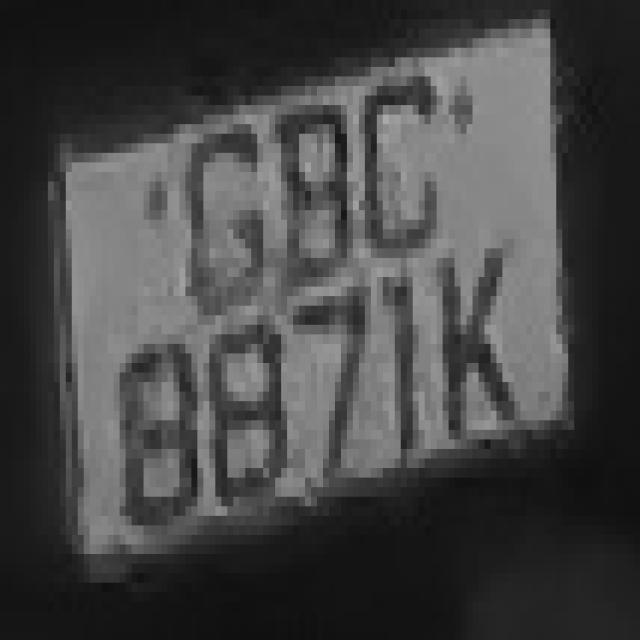1: (365, 267, 425, 516)
7: (275, 267, 371, 497)
8: (84, 344, 233, 544), (185, 306, 305, 535)
B: (245, 86, 347, 315)
C: (341, 48, 460, 286)
G: (162, 86, 281, 325)
K: (413, 220, 538, 478)
